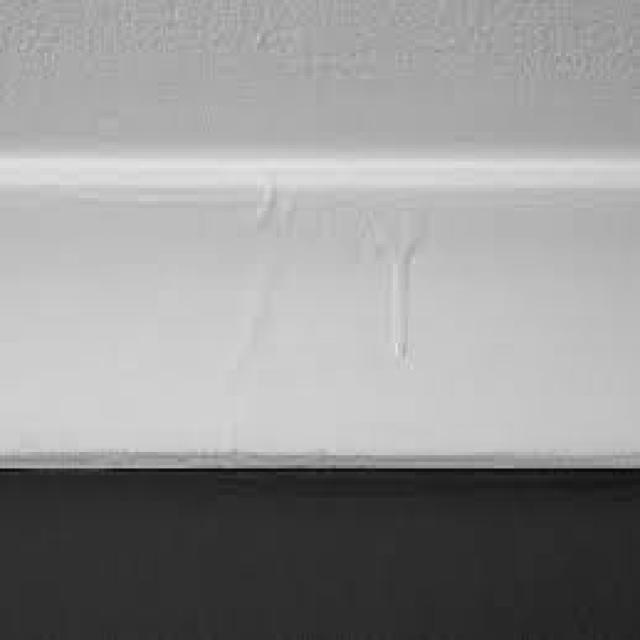paint drips: (371, 224, 437, 370), (248, 161, 304, 246)
